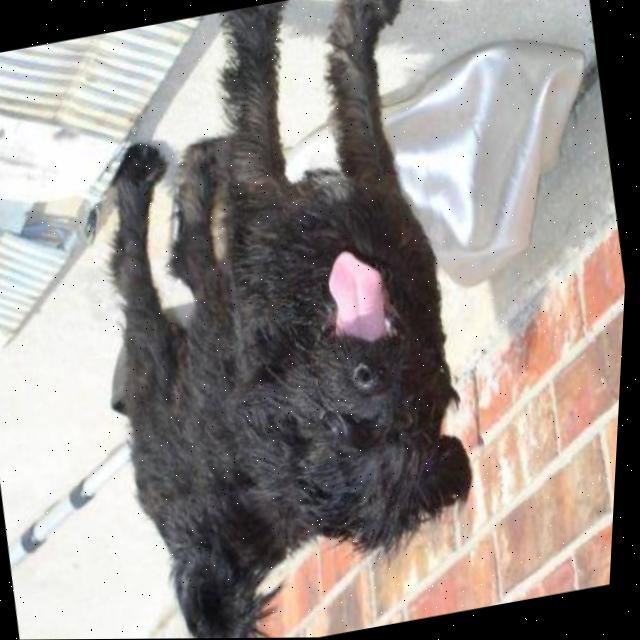dogs: (32, 0, 531, 640)
